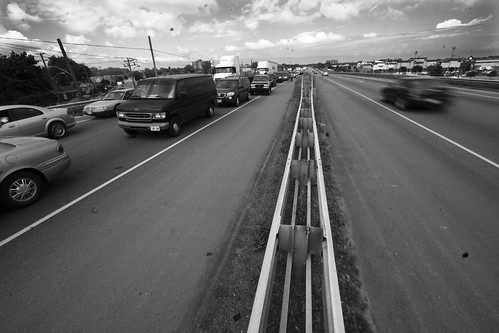car: (120, 73, 221, 140), (1, 138, 65, 225), (1, 91, 77, 138), (214, 76, 256, 113)
road: (1, 91, 499, 333)
sky: (14, 1, 499, 57)
